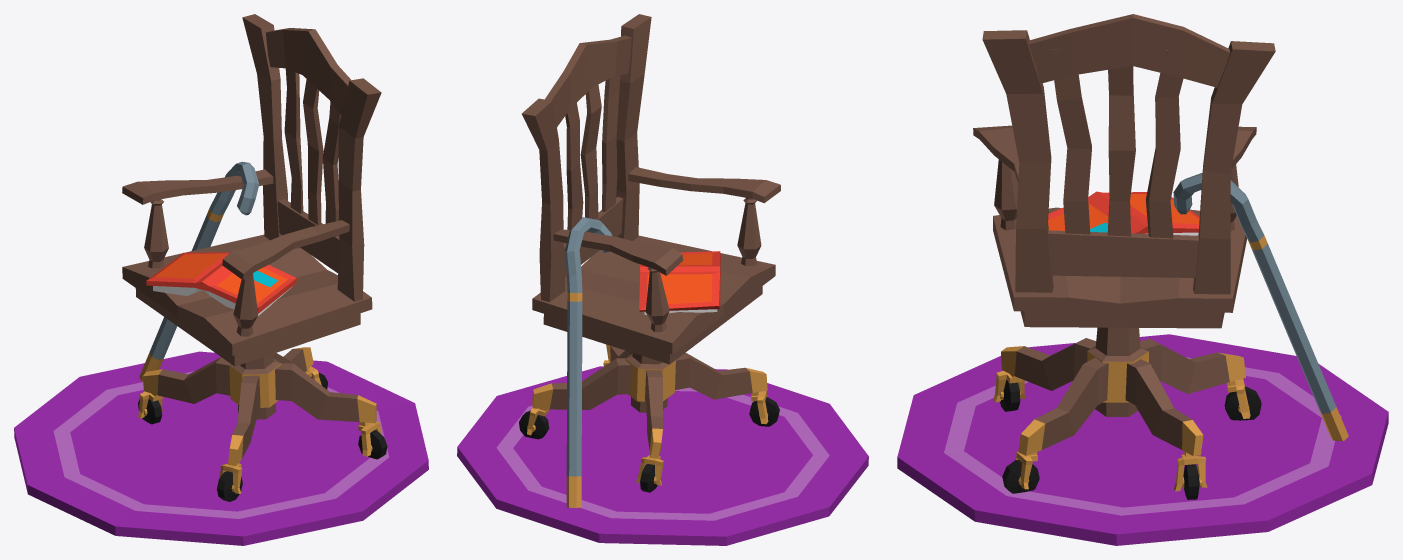
File: Wooden Office Chair.glb
The picture shows the model from 3 angles, left to right: view 1: azimuth 30°, elevation 25°; view 2: azimuth 150°, elevation 25°; view 3: azimuth 270°, elevation 25°; orthographic projection. The views are drawn at different scales.
Visible parts, largest first — view 1: group2106474918; view 2: group2106474918; view 3: group2106474918.
Boxes of the visible parts, x1,y1,x2,y2 form: group2106474918: (14,14,428,545); group2106474918: (457,14,868,545); group2106474918: (897,14,1388,545).
Bounding box in the file's own units: 1.62 × 1.74 × 1.59.
